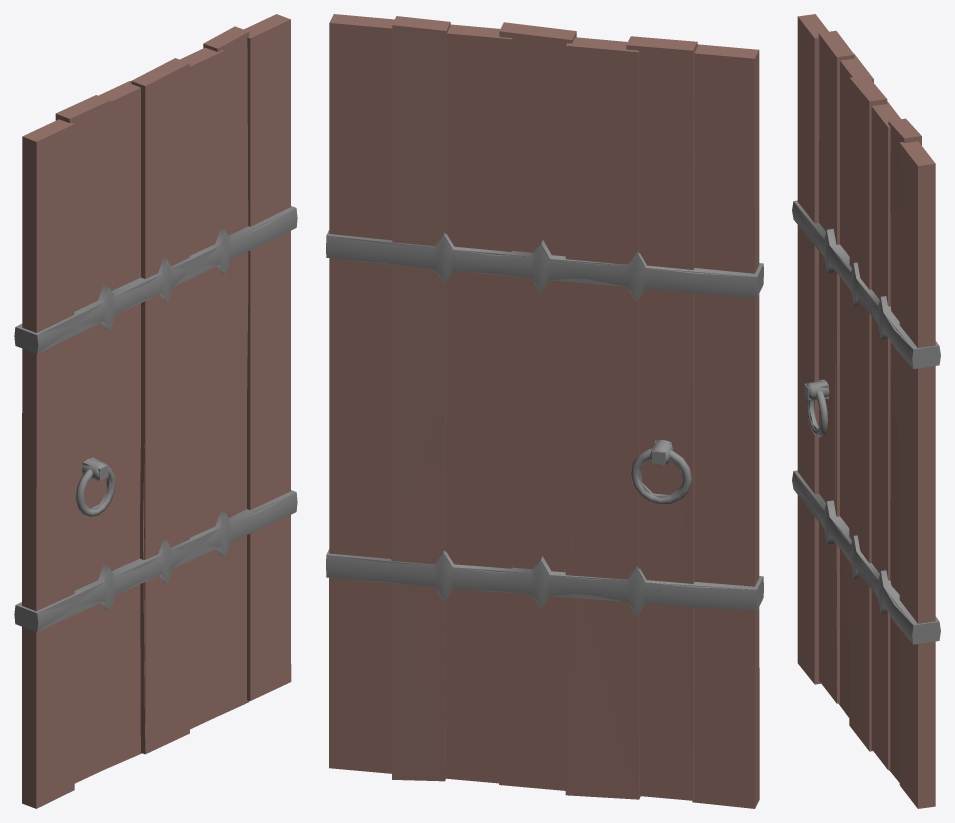
The model's file is Wooden_Door_1.fbx.
3 views of the same model, side by side, from view 1: azimuth 30°, elevation 25°; view 2: azimuth 150°, elevation 25°; view 3: azimuth 270°, elevation 25° (orthographic). The views are drawn at different scales.
Visible parts, largest first — view 1: Wooden_Door_1_LOD0, Wooden_Door_1; view 2: Wooden_Door_1_LOD0, Wooden_Door_1; view 3: Wooden_Door_1_LOD0, Wooden_Door_1.
Boxes of the visible parts, left/top/right/bottom form: Wooden_Door_1_LOD0: left=15, top=14, right=296, bottom=808; Wooden_Door_1: left=14, top=32, right=297, bottom=769; Wooden_Door_1_LOD0: left=326, top=14, right=763, bottom=808; Wooden_Door_1: left=326, top=30, right=763, bottom=800; Wooden_Door_1_LOD0: left=793, top=14, right=939, bottom=808; Wooden_Door_1: left=792, top=121, right=940, bottom=717.
Bounding box in the file's own units: 1.12 × 2.18 × 0.4514.
